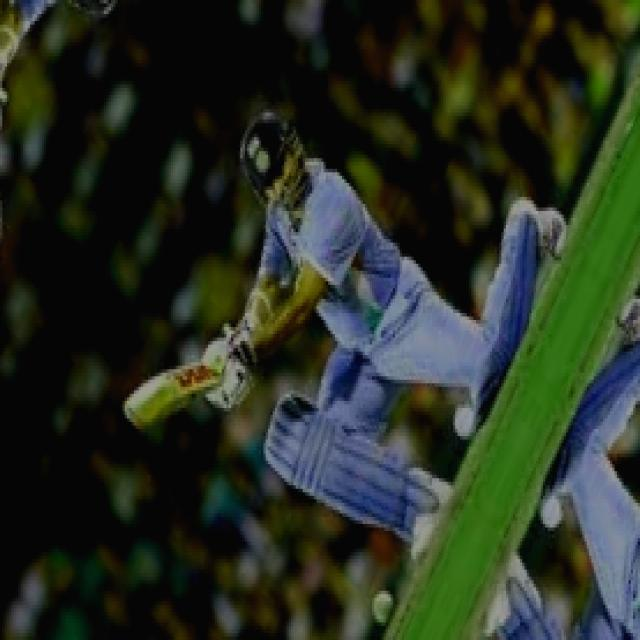bat: (118, 365, 222, 435)
toe: (116, 408, 158, 435)
